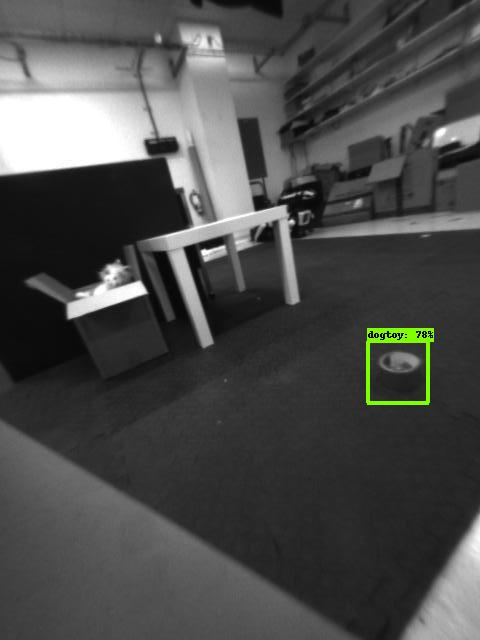dogtoy: (364, 342, 437, 401)
